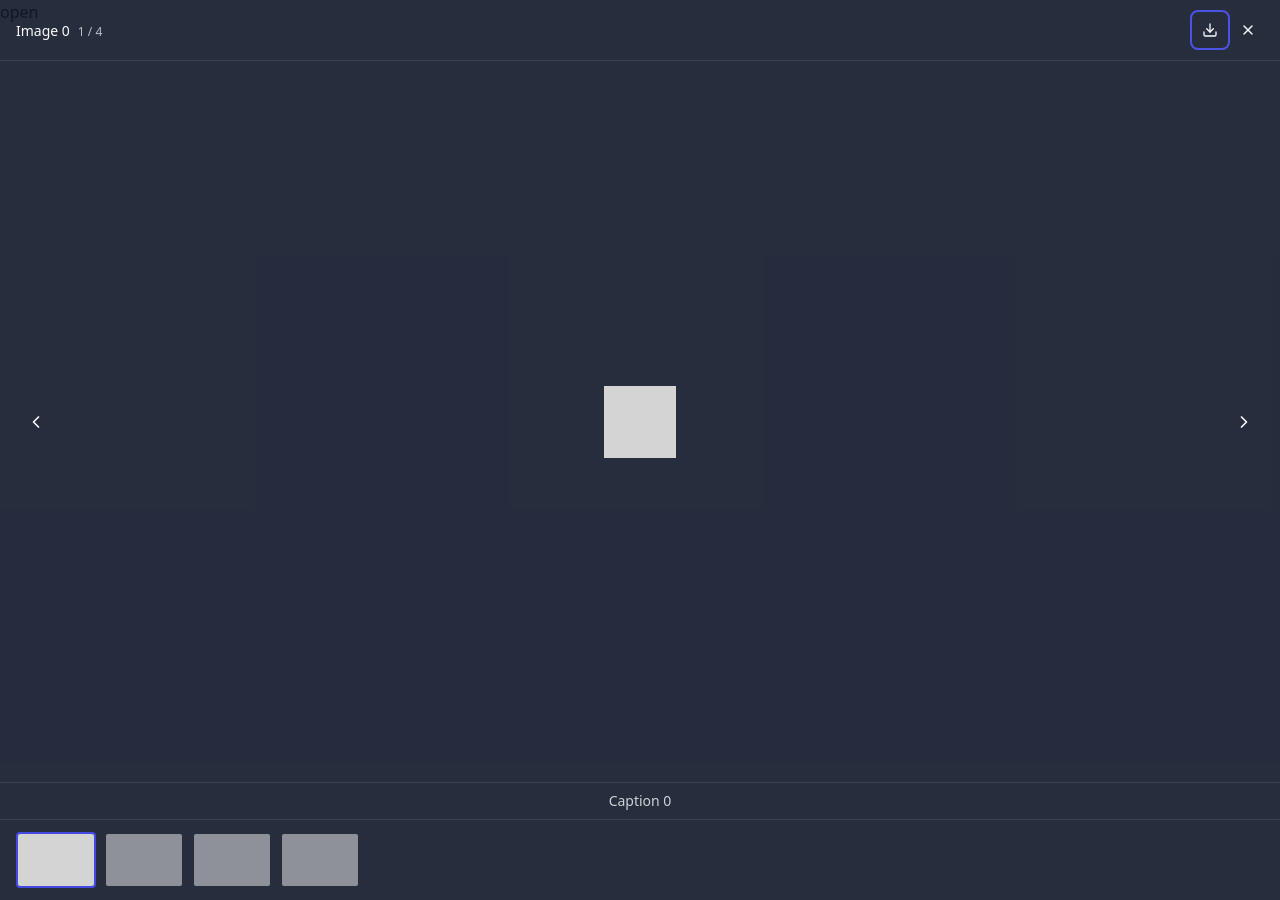
Scenario: Lightbox › clicking the next/prev buttons changes the index
What coordinates should you click on to do the following:
click the button with test id "lightbox-next"
I would click on:
 (1244, 422)
Its box is [1224, 402, 1264, 442].
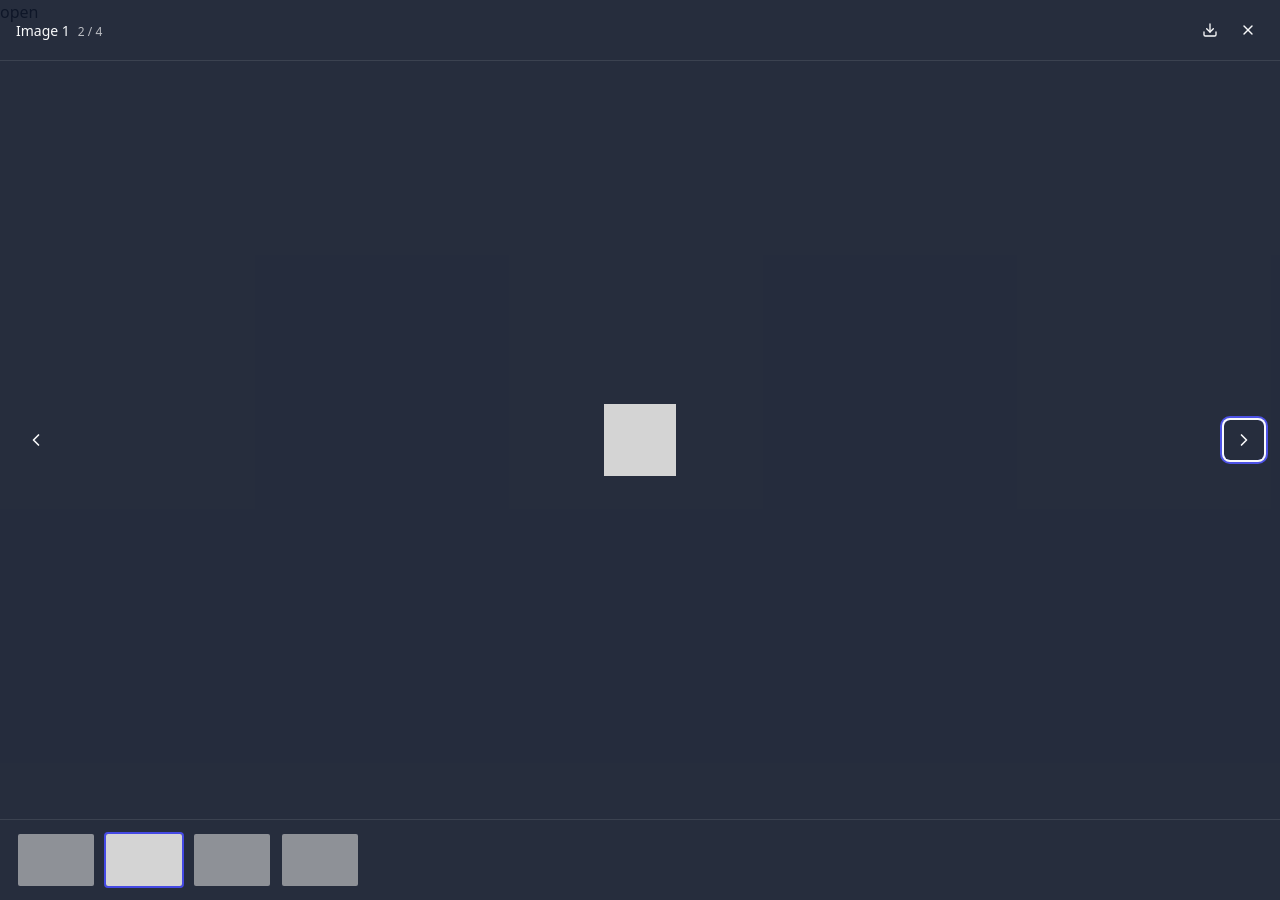
Expected: the text "Image 1" is shown, [16, 21, 70, 40]
What coordinates should you click on to do the following:
click the button with test id "lightbox-prev"
I would click on:
 (36, 440)
Its box is [16, 420, 56, 460].
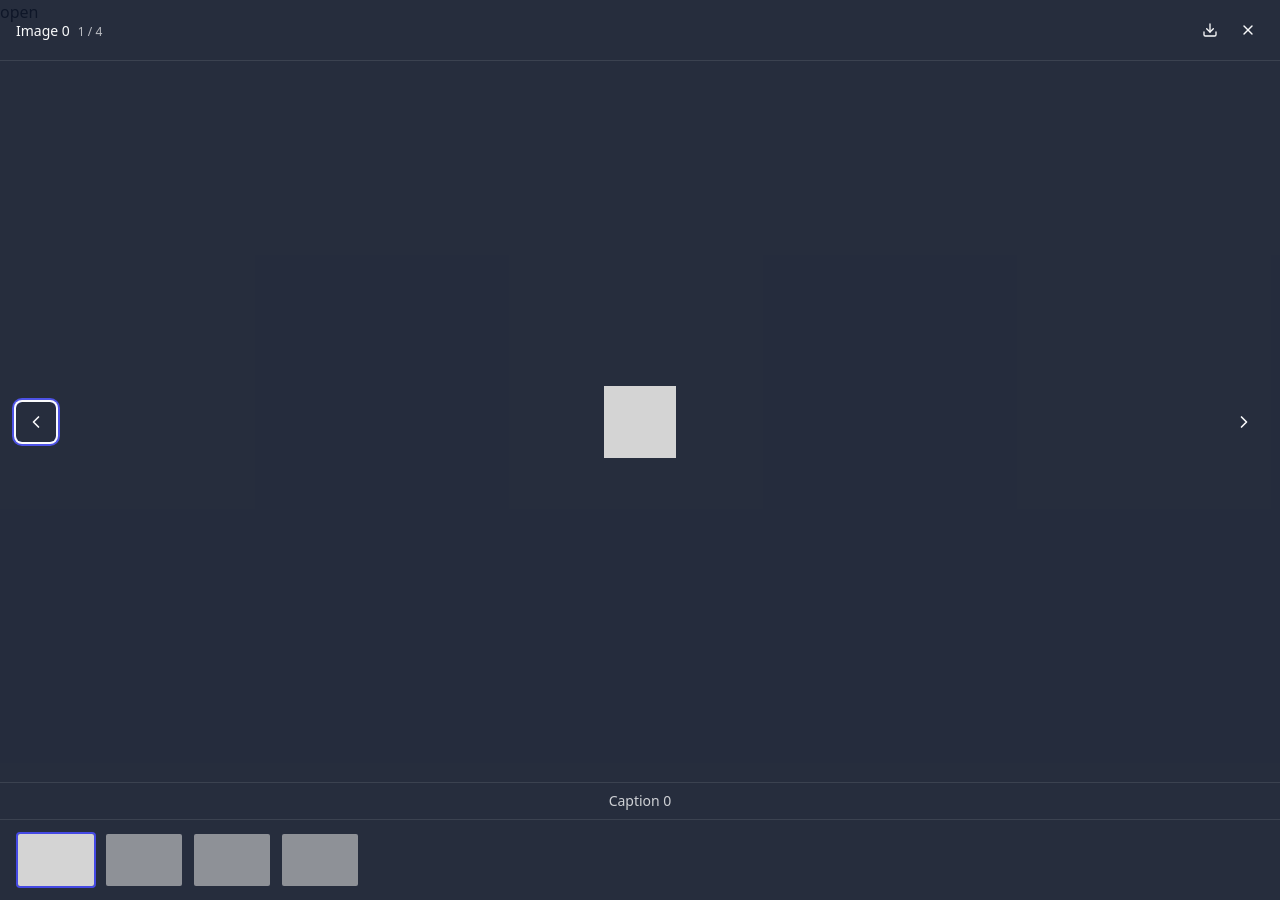
Expected: the text "Image 0" is shown, [16, 21, 70, 40]
